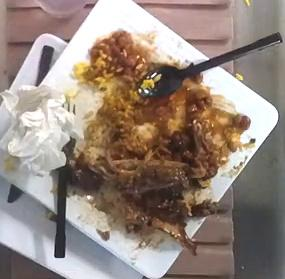beans: (135, 79, 250, 180), (73, 31, 154, 90)
